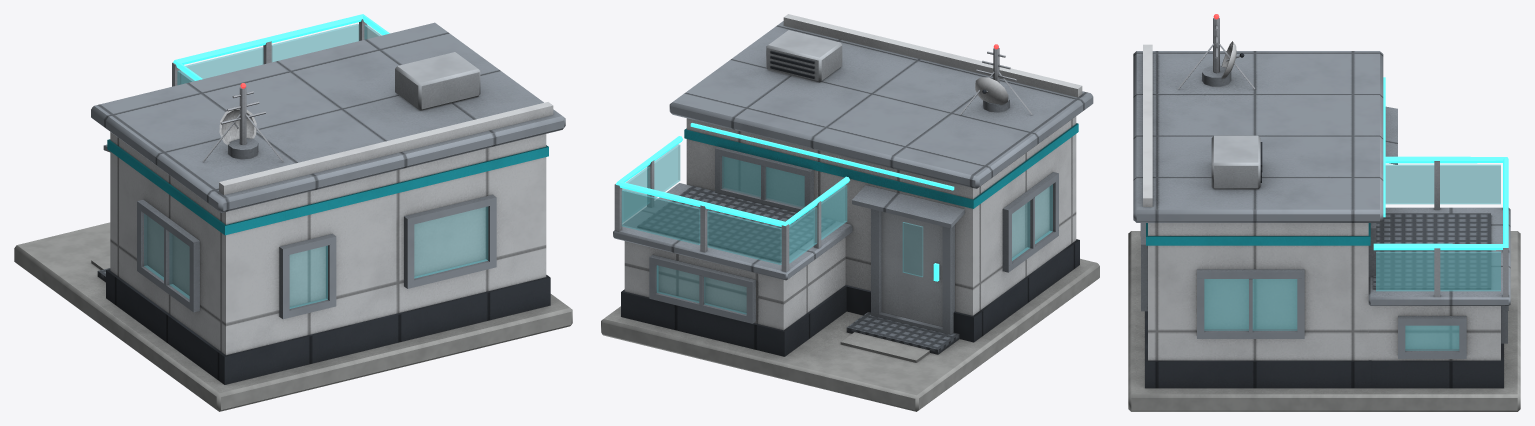
Rendered from casa_pequena_c.fbx.
The picture shows the model from 3 angles, left to right: view 1: azimuth 30°, elevation 25°; view 2: azimuth 150°, elevation 25°; view 3: azimuth 270°, elevation 25°; orthographic projection. The views are drawn at different scales.
Visible parts, largest first — view 1: casa_pequena_c, casa_pequena_c_cristal, casa_pequena_c_neon; view 2: casa_pequena_c, casa_pequena_c_cristal, casa_pequena_c_puerta, casa_pequena_c_neon; view 3: casa_pequena_c, casa_pequena_c_cristal, casa_pequena_c_neon.
Boxes of the visible parts, x1,y1,x2,y2 form: casa_pequena_c: (14,19,572,411); casa_pequena_c_cristal: (144,24,488,308); casa_pequena_c_neon: (173,14,389,80); casa_pequena_c: (601,14,1099,411); casa_pequena_c_cristal: (621,144,1052,314); casa_pequena_c_puerta: (881,211,942,326); casa_pequena_c_neon: (616,123,954,281); casa_pequena_c: (1128,18,1520,411); casa_pequena_c_cristal: (1204,164,1500,350); casa_pequena_c_neon: (1373,77,1508,250).
Bounding box in the file's own units: 8 × 6 × 8.
3 materials, 3 textured.
